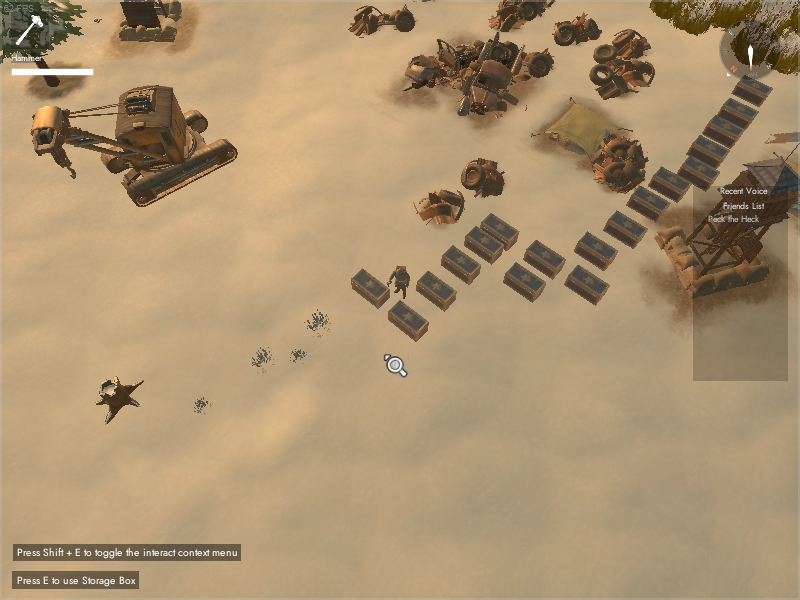crane: (30, 82, 239, 208)
foxhole: (530, 96, 634, 175)
player: (385, 263, 412, 301)
scrap: (591, 134, 649, 194), (587, 58, 657, 101), (591, 28, 653, 68), (347, 4, 416, 39), (412, 188, 467, 228), (487, 1, 555, 31), (460, 156, 506, 199), (552, 11, 602, 47)
scrapyard: (406, 33, 555, 119)
storage_box: (564, 264, 612, 308), (387, 299, 430, 344), (439, 243, 484, 286), (348, 267, 392, 310), (415, 269, 458, 313), (602, 210, 649, 250), (503, 261, 547, 303), (523, 239, 567, 281), (572, 231, 618, 271), (674, 154, 721, 192), (647, 166, 693, 203), (701, 114, 747, 151), (625, 186, 672, 222), (479, 212, 520, 252), (463, 226, 505, 265), (686, 134, 732, 169), (717, 98, 760, 132), (731, 75, 774, 107)
toggle_storage_box: (13, 571, 139, 589)
watchtower: (656, 140, 800, 303), (115, 1, 181, 45)
